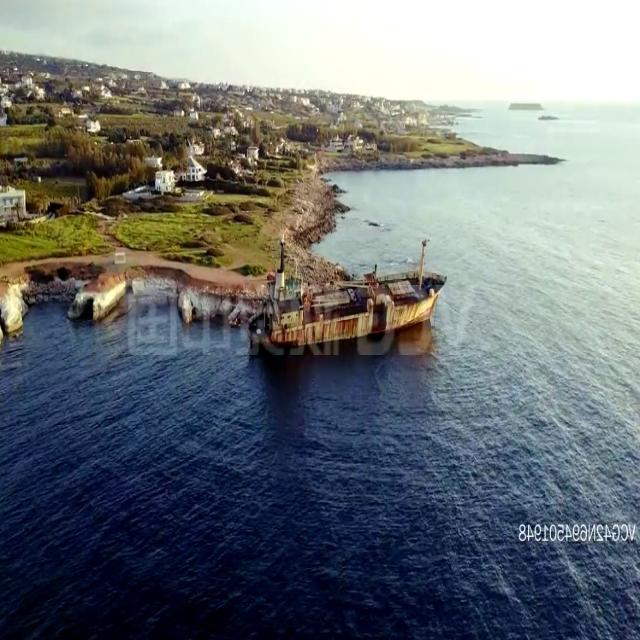cargoship: (247, 238, 450, 360)
